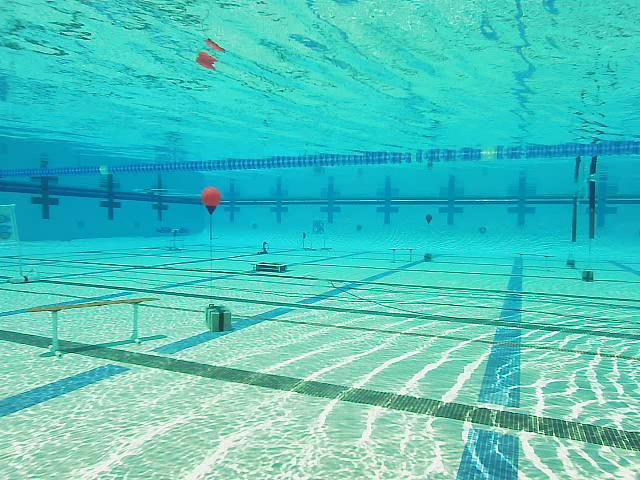buoy: (202, 188, 221, 215)
